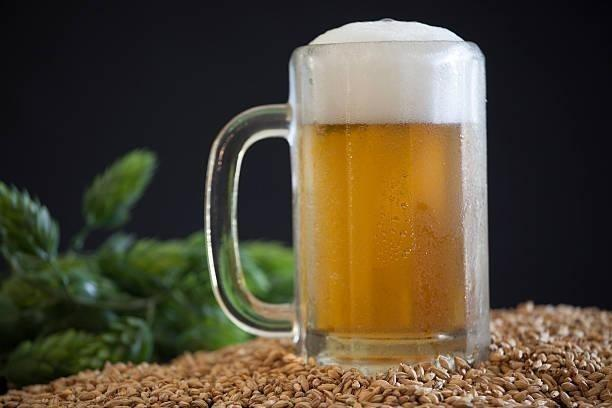glass-mug: (201, 30, 495, 382)
